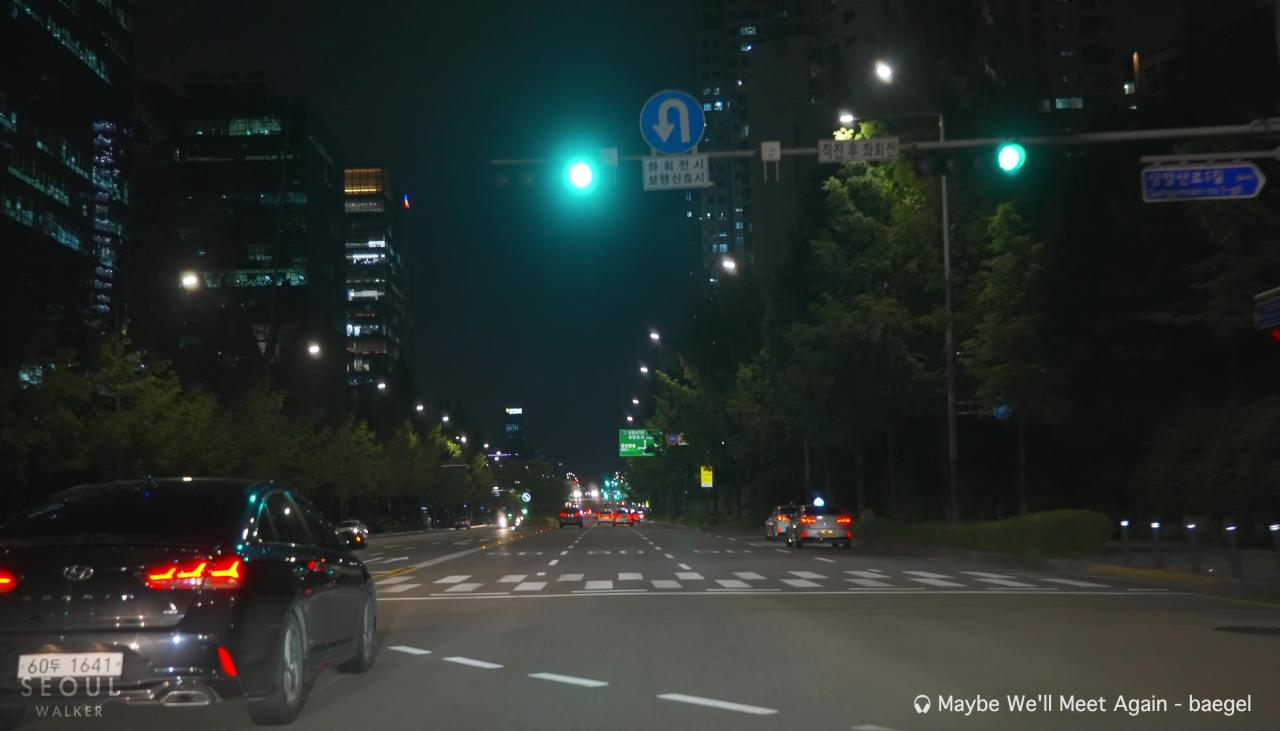Green Light: (564, 158, 597, 192), (996, 143, 1027, 173)
